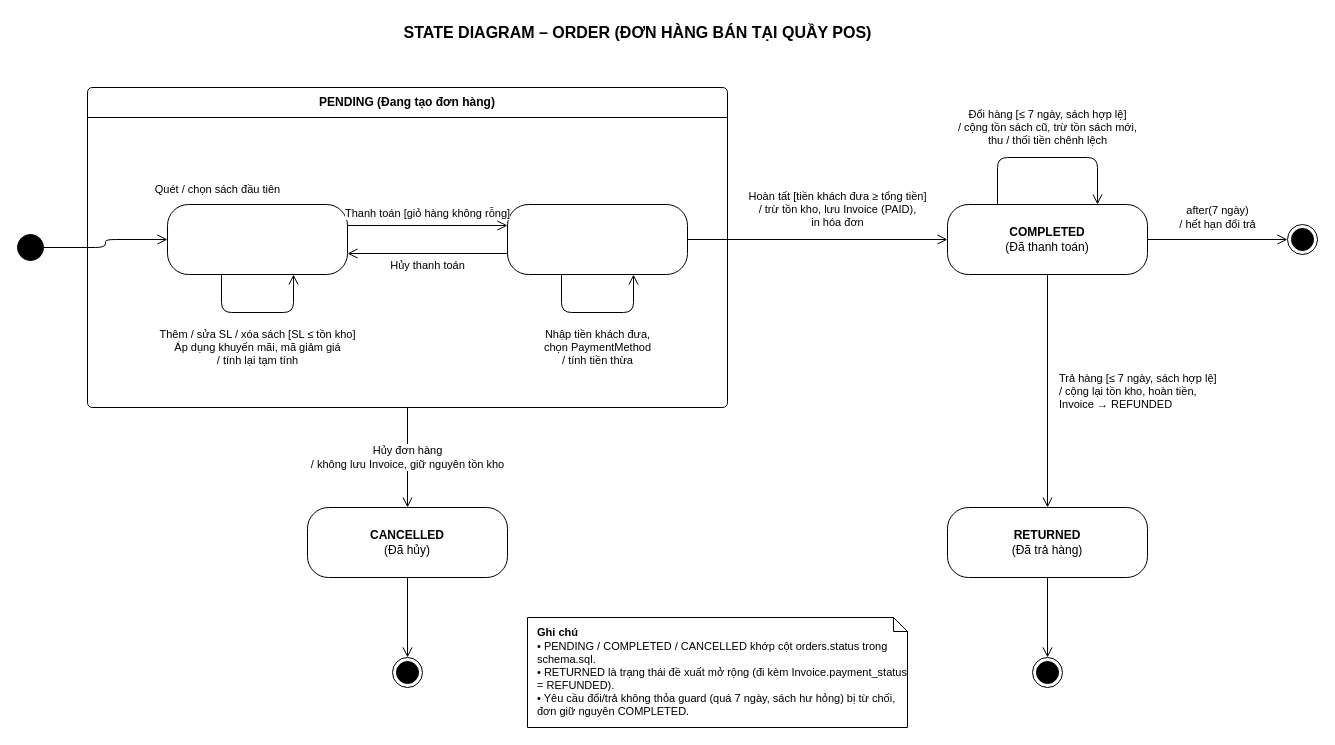
Image size: 1335x745. Some labels were removed from this diagram. Here are the shapes that lost their labels. From the top down, the box of each, then its label:
(166, 204, 348, 274): Đang chọn sách (Giỏ hàng / Hóa đơn tạm)
(506, 204, 688, 274): Đang thanh toán
